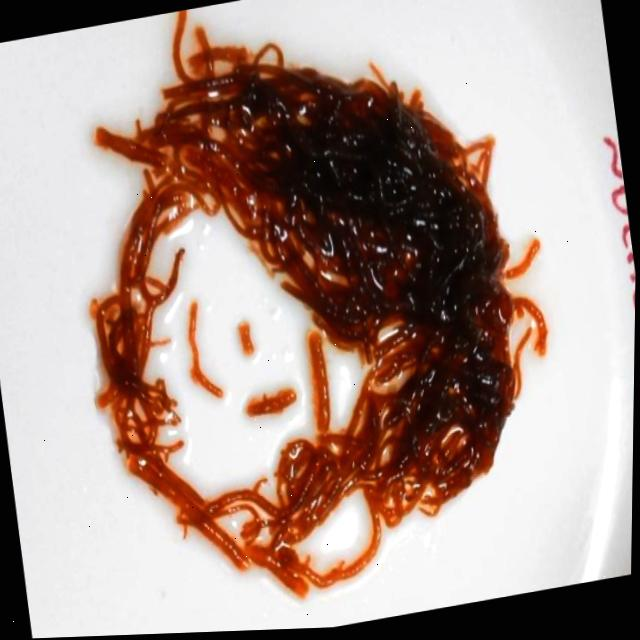蔬菜料理: (11, 0, 633, 639)
